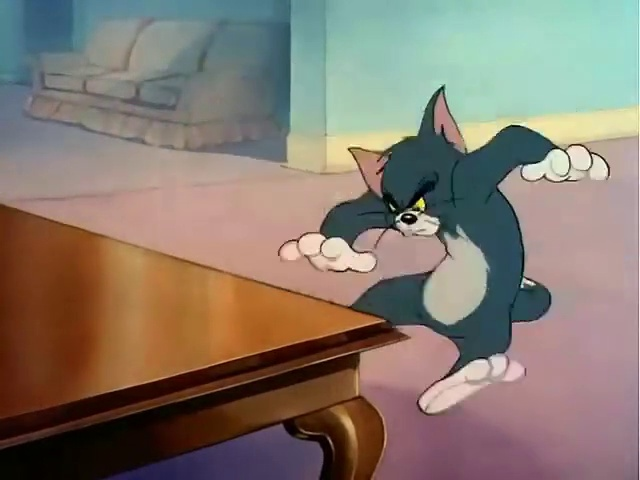tom: (262, 62, 618, 411)
